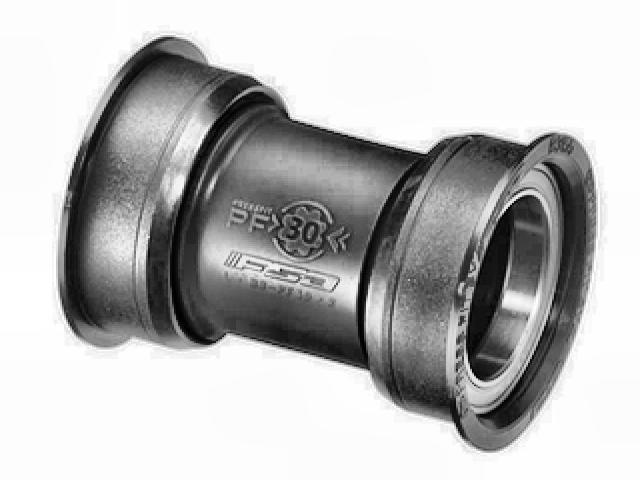bottom_bracket: (53, 32, 602, 454)
